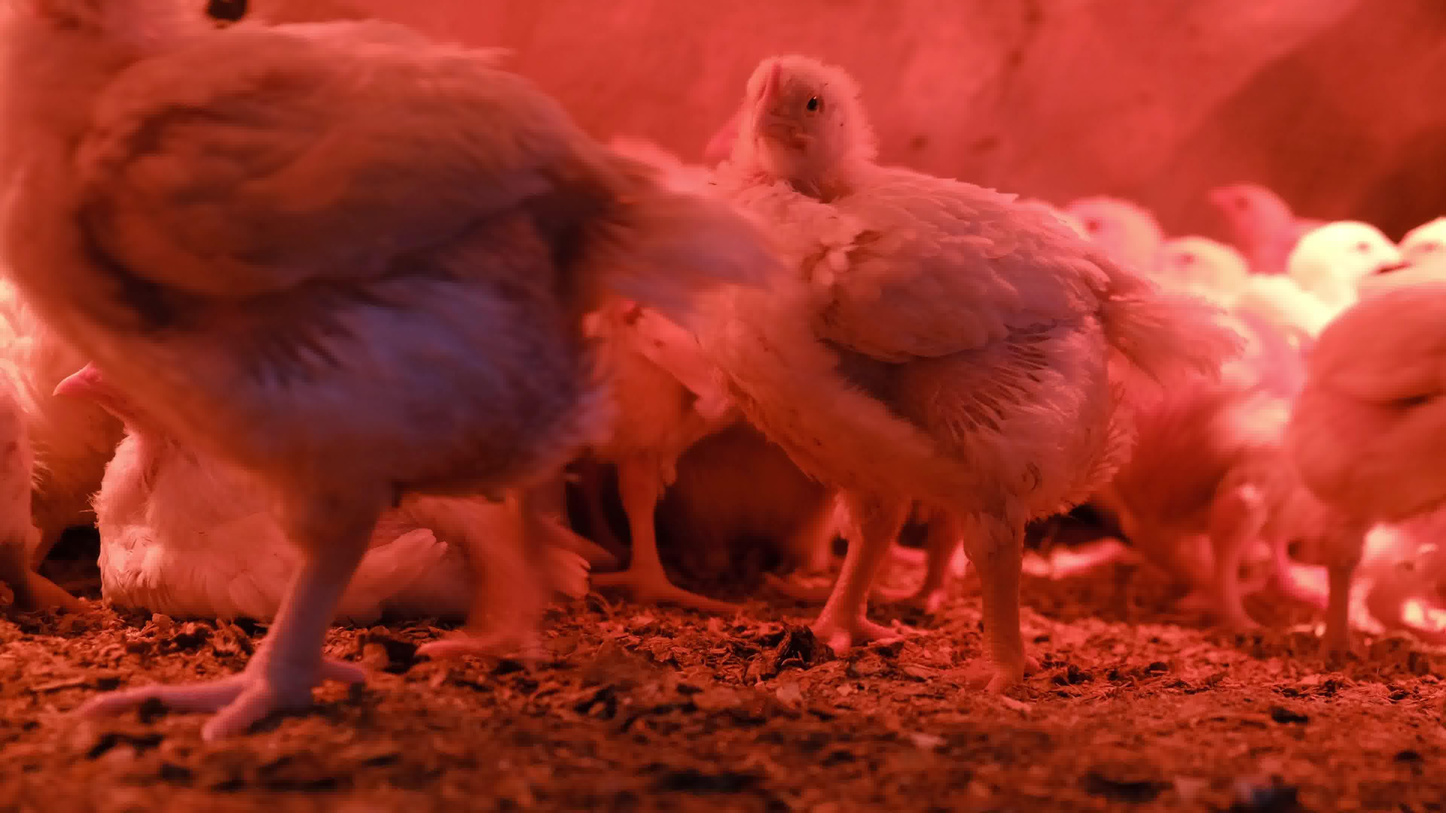AbNormal: (32, 329, 619, 651)
Normal: (4, 11, 676, 679), (712, 41, 1122, 721), (1309, 254, 1446, 693), (1197, 139, 1310, 269), (1271, 199, 1403, 301), (1071, 167, 1177, 279), (1152, 222, 1261, 322)
